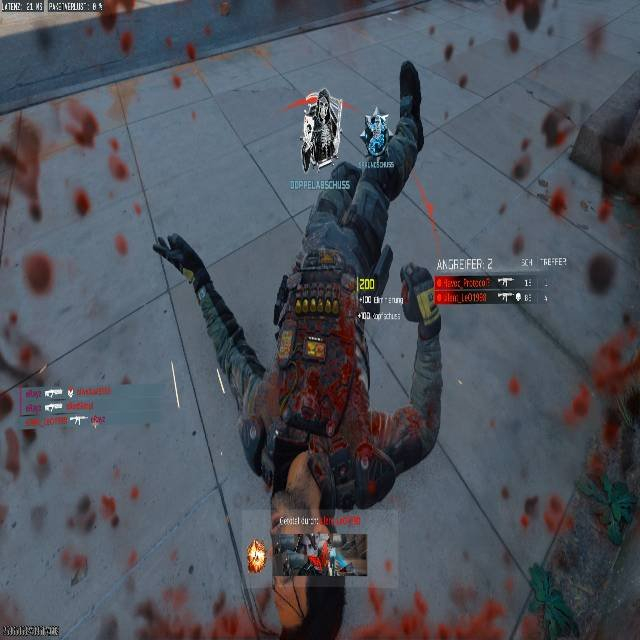head: (59, 97, 100, 146)
